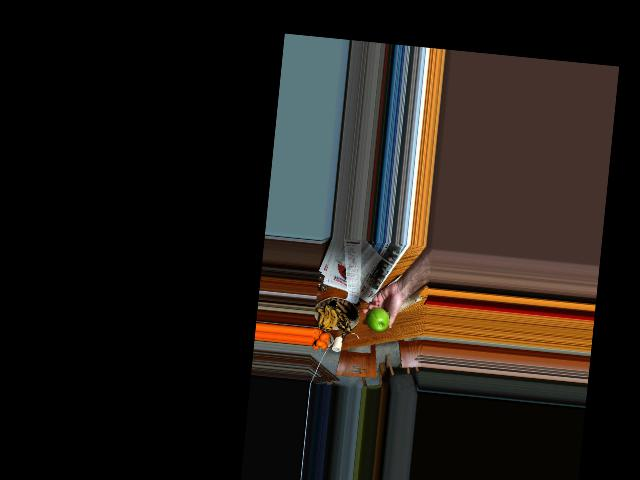apple: (364, 307, 391, 334)
